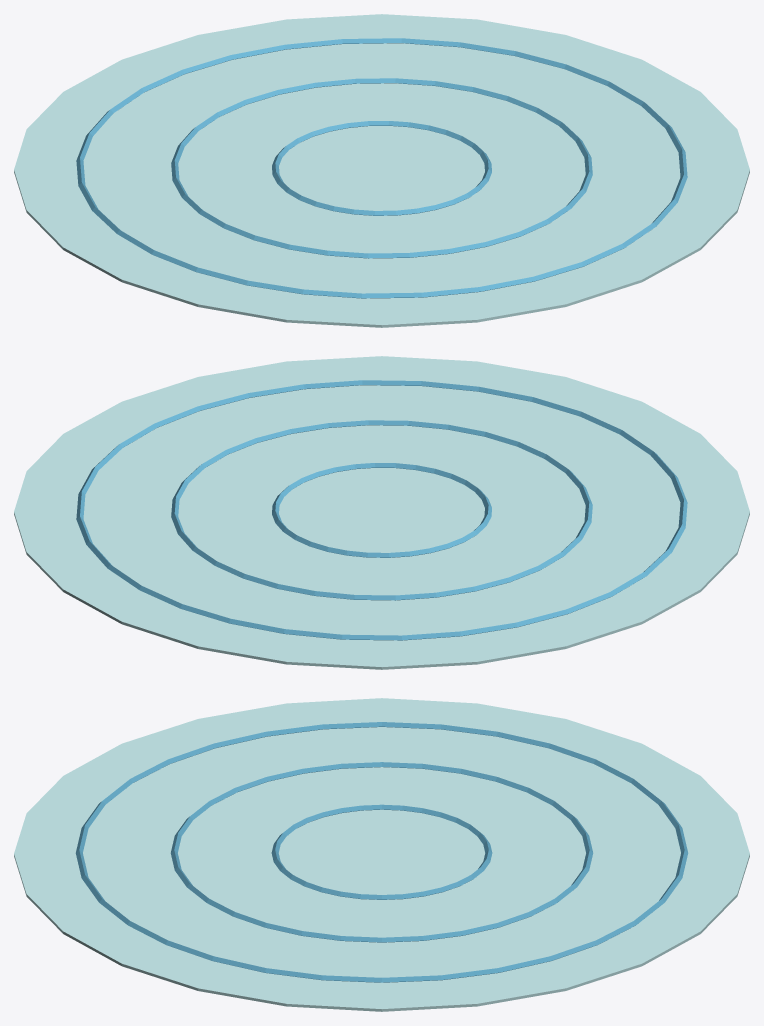
The model's file is agua_cisterna.glb.
3 views of the same model, one above another, from view 1: azimuth 30°, elevation 25°; view 2: azimuth 150°, elevation 25°; view 3: azimuth 270°, elevation 25° (orthographic).
Parts seen in each view (by area): view 1: agua_cisterna; view 2: agua_cisterna; view 3: agua_cisterna.
Part boxes in pixels (box(x1,y1,x2,y2)): agua_cisterna: box(14, 14, 749, 327); agua_cisterna: box(14, 356, 749, 669); agua_cisterna: box(14, 698, 749, 1011).
Size of the model in its own units: 6.2 by 0.06 by 6.2.
